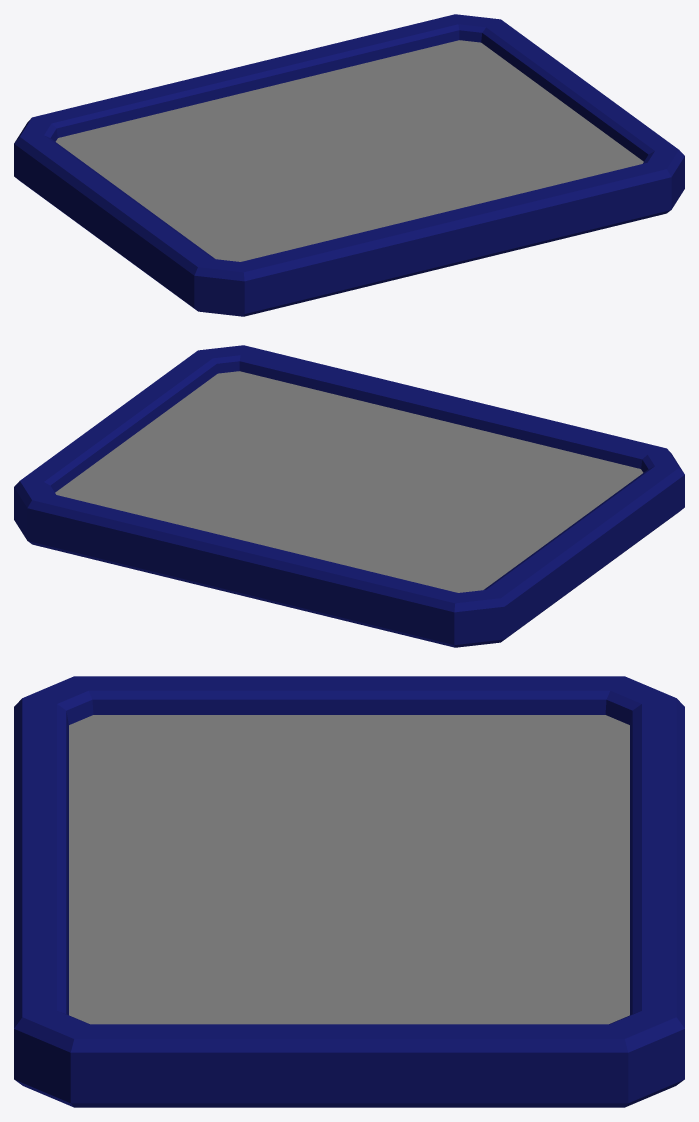
Rendered from Maqueta.fbx.
The picture shows the model from 3 angles, top to bottom: view 1: azimuth 30°, elevation 25°; view 2: azimuth 150°, elevation 25°; view 3: azimuth 270°, elevation 25°; orthographic projection. The views are drawn at different scales.
Visible parts, largest first — view 1: Box001; view 2: Box001; view 3: Box001.
Boxes of the visible parts, left/top/right/bottom form: Box001: left=14, top=14, right=684, bottom=316; Box001: left=14, top=345, right=684, bottom=647; Box001: left=14, top=676, right=684, bottom=1107.
Bounding box in the file's own units: 63.44 × 5.53 × 48.63.
